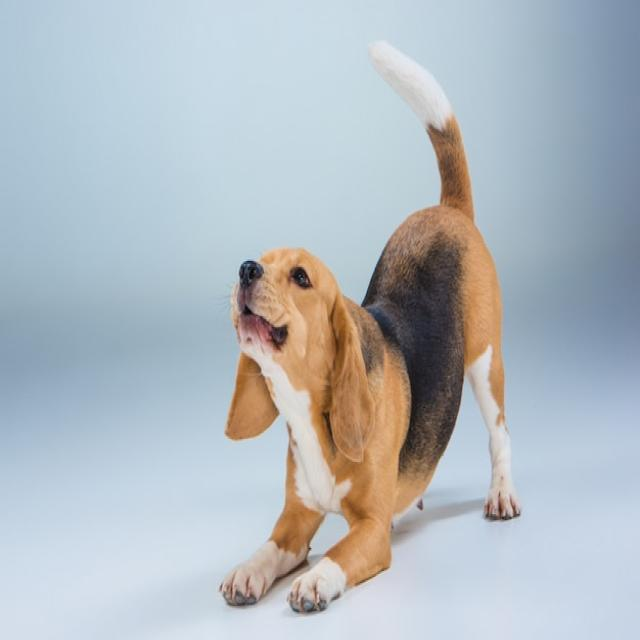Dog: (220, 40, 520, 618)
